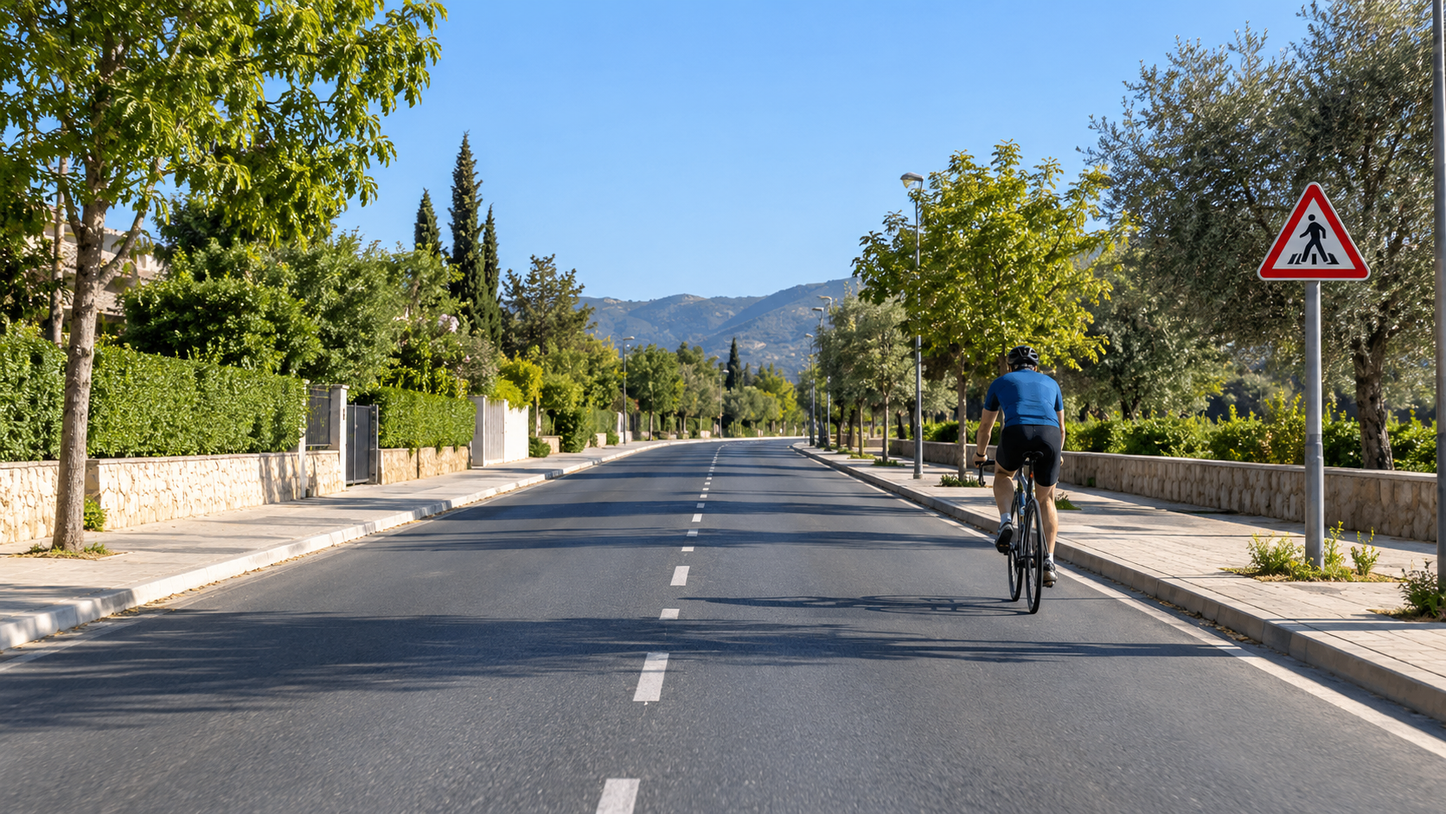bicycle: (967, 433, 1045, 615)
crossing_warning_sign: (1257, 181, 1370, 281)
person: (973, 346, 1058, 575)
